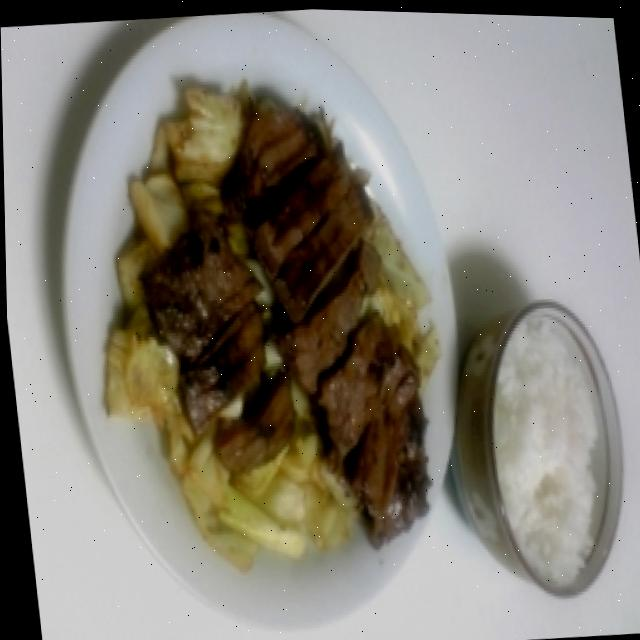蔬菜料理: (47, 29, 492, 607)
